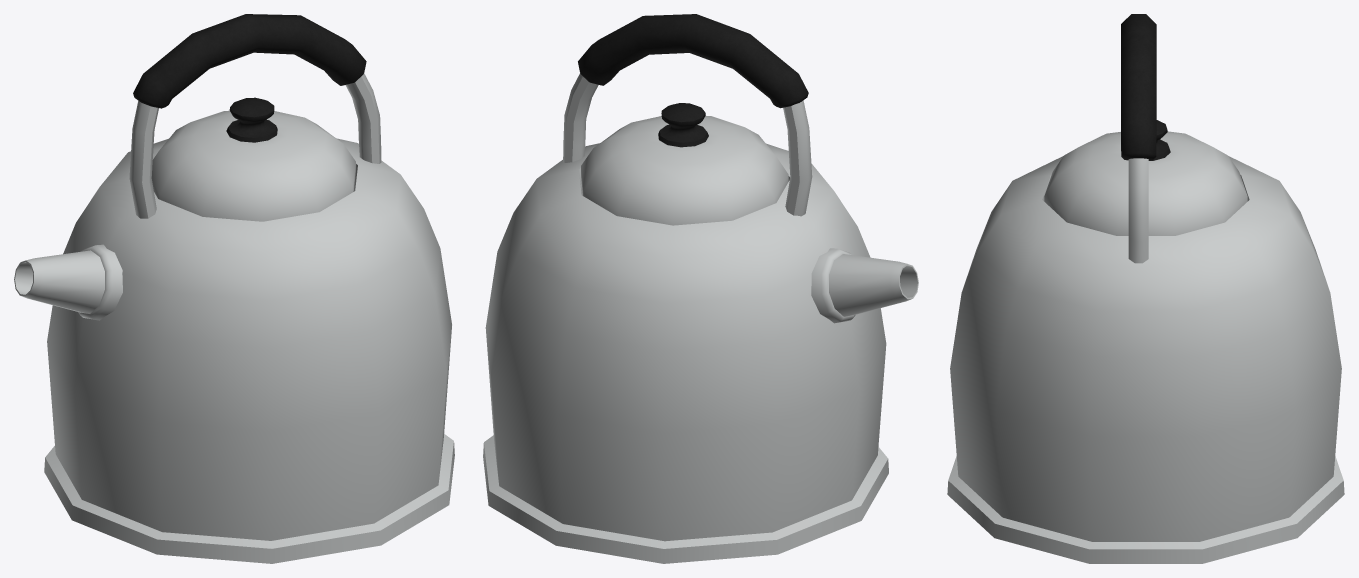
Rendered from kettle.FBX.
3 views of the same model, side by side, from view 1: azimuth 30°, elevation 25°; view 2: azimuth 150°, elevation 25°; view 3: azimuth 270°, elevation 25° (orthographic). The views are drawn at different scales.
Parts seen in each view (by area): view 1: kettle002; view 2: kettle002; view 3: kettle002.
Part boxes in pixels (x1=…): kettle002: x1=14, y1=14, x2=454, y2=563; kettle002: x1=483, y1=14, x2=918, y2=563; kettle002: x1=947, y1=14, x2=1344, y2=563.
Size of the model in its own units: 29.38 by 32.16 by 25.87.
1 material, 1 textured.
